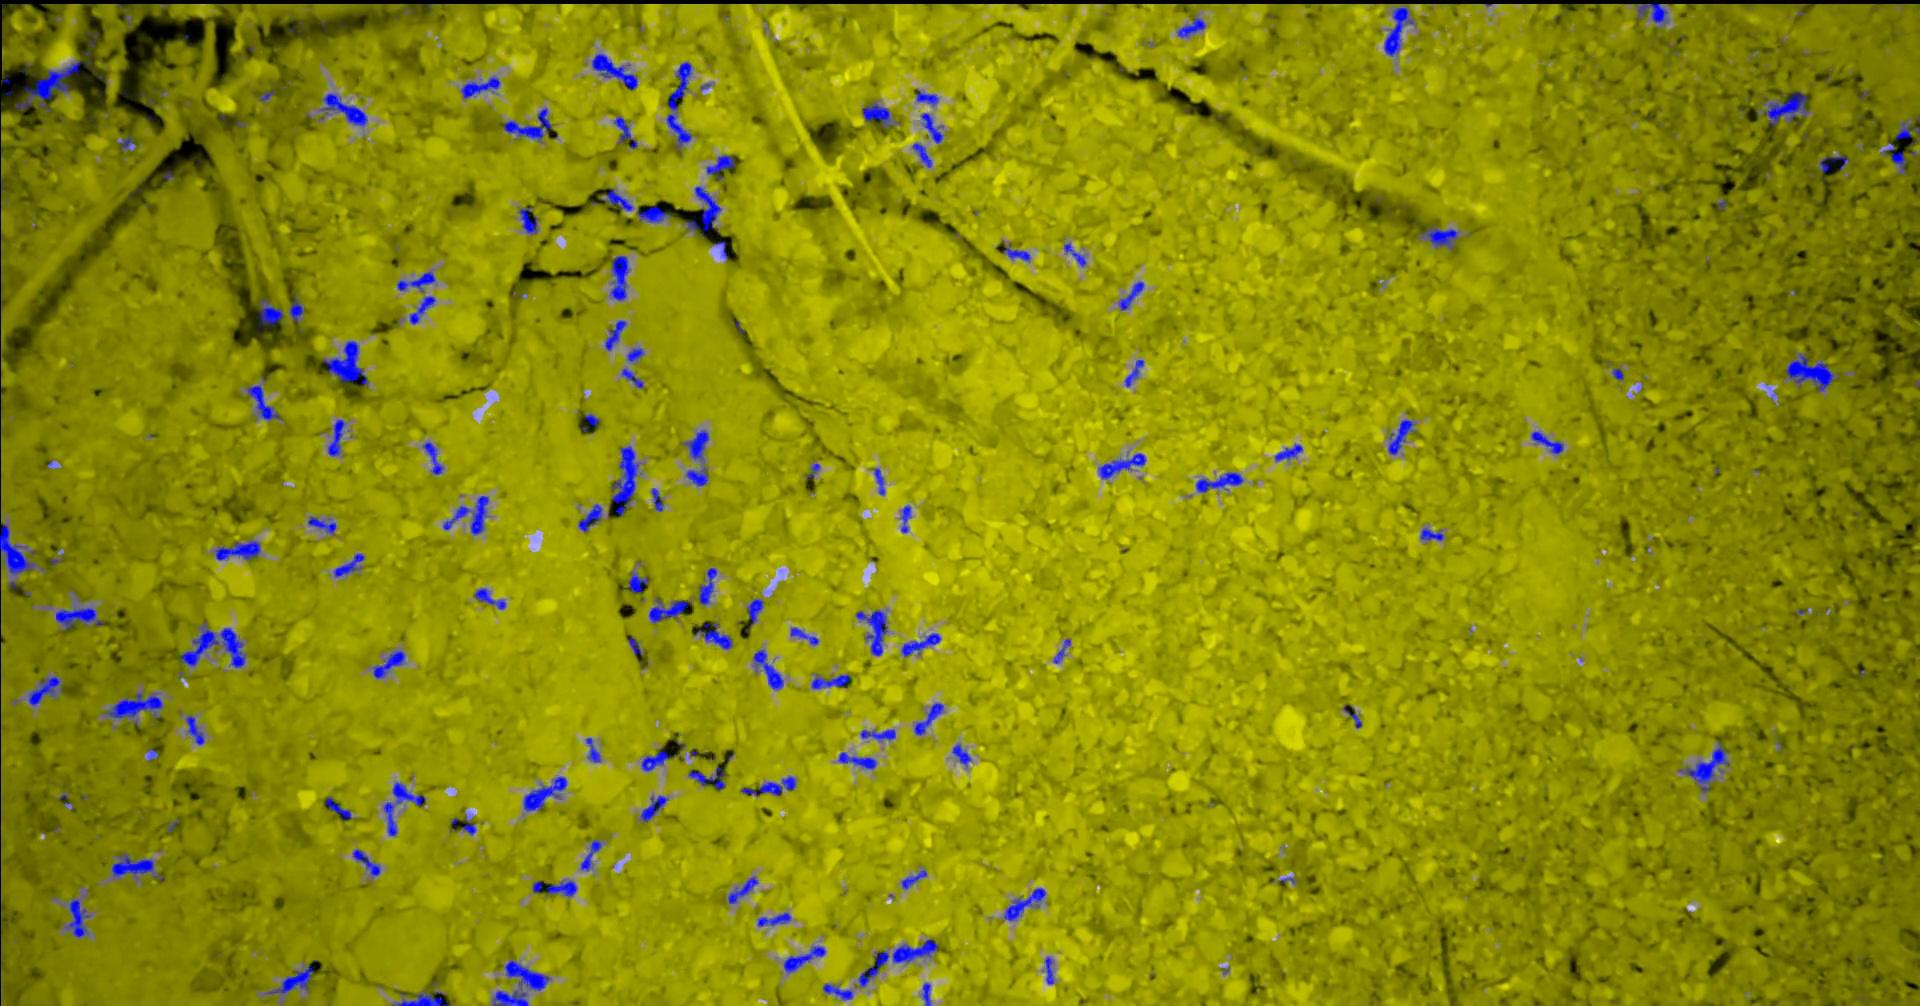ant: (857, 937, 937, 987), (14, 60, 81, 112), (491, 959, 549, 1005), (1679, 739, 1728, 791), (665, 61, 691, 149), (383, 782, 425, 835), (611, 445, 641, 514), (323, 340, 368, 385), (104, 692, 163, 727), (0, 521, 36, 575), (684, 185, 721, 238), (442, 495, 488, 533), (1785, 354, 1832, 391), (590, 53, 637, 89), (503, 107, 551, 141), (1763, 91, 1808, 126), (320, 93, 367, 126), (522, 776, 566, 810), (1383, 6, 1413, 56), (855, 610, 888, 655), (110, 854, 163, 882), (1003, 887, 1045, 921), (267, 965, 312, 995), (753, 649, 783, 688), (246, 384, 279, 419), (1097, 453, 1145, 478), (783, 945, 825, 972), (740, 776, 795, 796), (63, 898, 90, 937), (55, 607, 103, 629), (27, 676, 62, 705), (693, 622, 731, 649), (648, 598, 690, 622), (913, 702, 943, 735), (215, 539, 260, 560), (1387, 419, 1415, 453), (640, 746, 677, 771), (1195, 473, 1243, 492), (900, 633, 940, 655), (391, 989, 450, 1005), (372, 650, 404, 678), (460, 76, 500, 98), (1418, 226, 1457, 249), (687, 766, 725, 789), (610, 255, 629, 300), (257, 298, 283, 330), (396, 271, 436, 291), (613, 116, 637, 149), (728, 876, 757, 903), (705, 155, 735, 180), (683, 429, 709, 460), (1530, 431, 1563, 453), (409, 296, 436, 324), (352, 848, 380, 875), (532, 879, 577, 895), (921, 112, 943, 144), (1882, 142, 1905, 174), (333, 553, 364, 575), (422, 441, 443, 474), (639, 795, 667, 821), (862, 103, 891, 127), (1119, 281, 1143, 310), (837, 751, 876, 768), (1636, 3, 1667, 24), (601, 188, 632, 210), (604, 319, 626, 351), (698, 567, 716, 605), (577, 503, 601, 531), (328, 419, 345, 456), (474, 588, 505, 608), (580, 840, 601, 870), (325, 796, 350, 821), (636, 205, 670, 222), (1895, 121, 1919, 145), (1177, 17, 1205, 37), (185, 715, 204, 744), (811, 674, 850, 688), (1818, 154, 1848, 171), (1001, 243, 1030, 260), (307, 516, 337, 533), (900, 869, 926, 889), (518, 206, 537, 232), (1124, 359, 1143, 386), (1274, 443, 1302, 461), (745, 598, 763, 626), (1063, 243, 1084, 265), (1051, 638, 1070, 663), (626, 572, 648, 593), (951, 743, 971, 766), (822, 983, 852, 998), (790, 627, 818, 644), (757, 912, 790, 926), (912, 142, 931, 166), (684, 466, 707, 485), (1342, 704, 1361, 727), (621, 368, 643, 387), (860, 729, 895, 741), (916, 89, 938, 105), (290, 296, 303, 321), (585, 737, 599, 762), (582, 413, 599, 431), (627, 635, 643, 655), (872, 467, 884, 494), (650, 488, 663, 511), (1420, 527, 1443, 540), (460, 815, 475, 835), (900, 506, 910, 532), (1044, 956, 1053, 984), (118, 136, 135, 150), (626, 347, 643, 361), (922, 982, 931, 1005), (806, 464, 819, 479), (1611, 367, 1623, 380)
